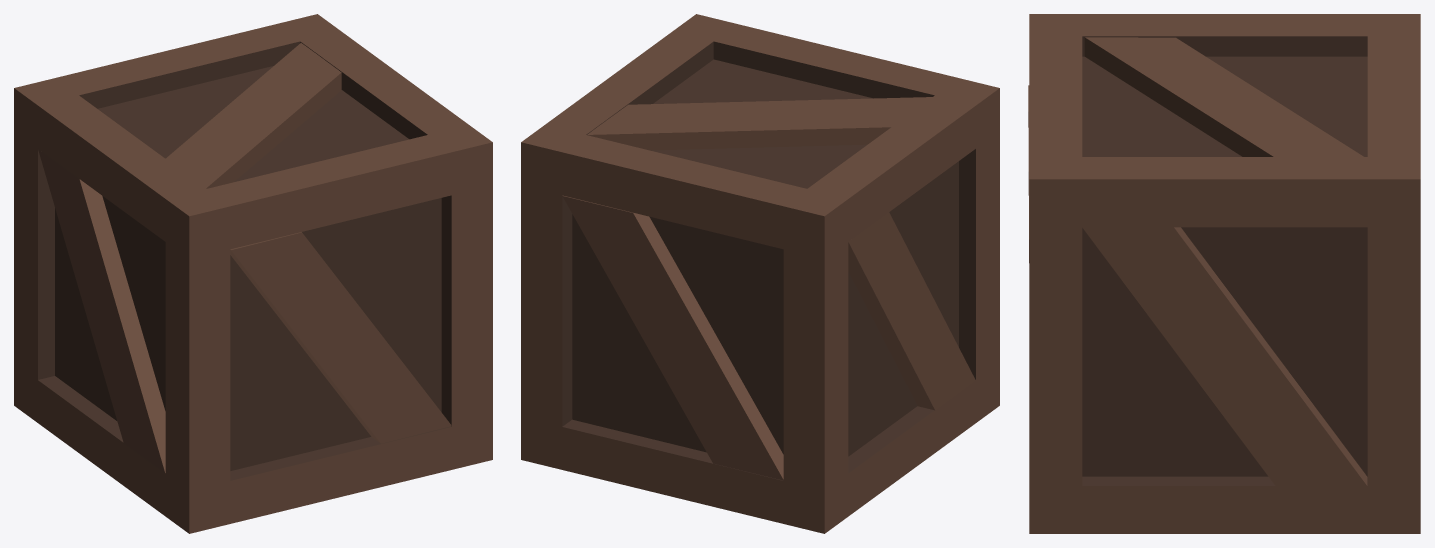
Rendered from Crate_002.glb.
3 views of the same model, side by side, from view 1: azimuth 30°, elevation 25°; view 2: azimuth 150°, elevation 25°; view 3: azimuth 270°, elevation 25° (orthographic). The views are drawn at different scales.
Visible parts, largest first — view 1: Crate.002; view 2: Crate.002; view 3: Crate.002.
Part boxes in pixels (x1,y1,x2,y2): Crate.002: [14, 14, 492, 533]; Crate.002: [521, 14, 999, 533]; Crate.002: [1028, 14, 1420, 533].
Bounding box in the file's own units: 2 × 2 × 2.01.
